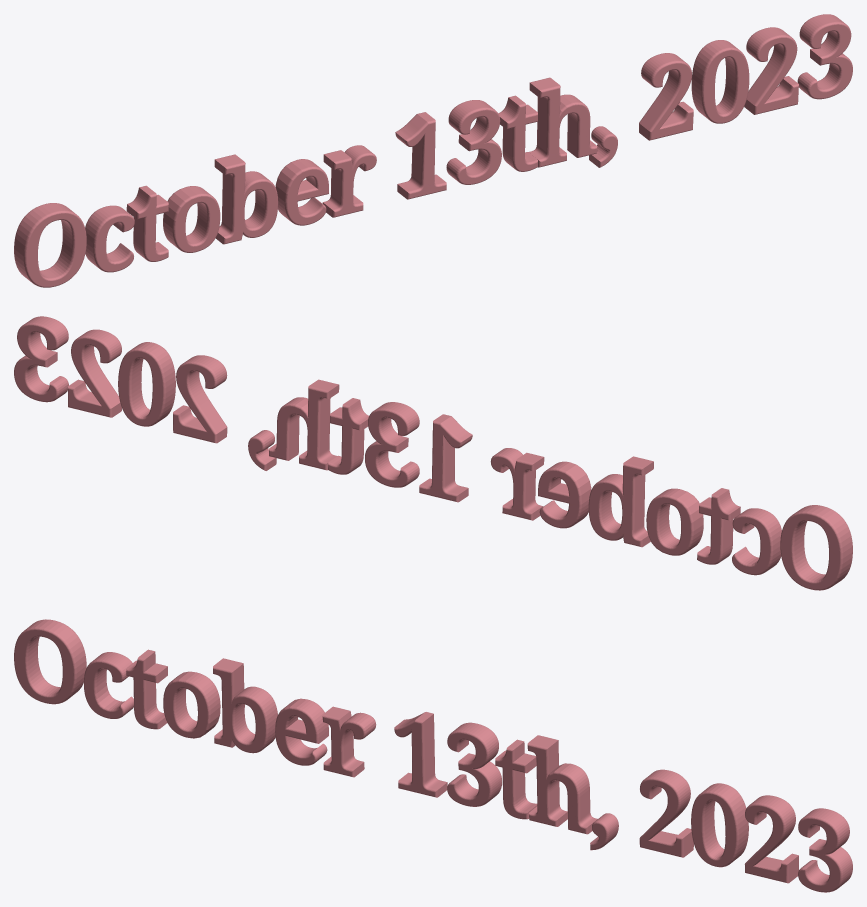
The model's file is LaunchDate.glb.
3 renders of one model, top to bottom at view 1: azimuth 30°, elevation 25°; view 2: azimuth 150°, elevation 25°; view 3: azimuth 330°, elevation 25°, orthographic.
Parts seen in each view (by area): view 1: Mesh_Mesh_head_geo.001_lambert2SG.001; view 2: Mesh_Mesh_head_geo.001_lambert2SG.001; view 3: Mesh_Mesh_head_geo.001_lambert2SG.001.
Boxes of the visible parts, x1,y1,x2,y2 form: Mesh_Mesh_head_geo.001_lambert2SG.001: [14, 14, 852, 287]; Mesh_Mesh_head_geo.001_lambert2SG.001: [14, 316, 852, 590]; Mesh_Mesh_head_geo.001_lambert2SG.001: [14, 619, 852, 892].
Bounding box in the file's own units: 245 × 26.61 × 7.06.
